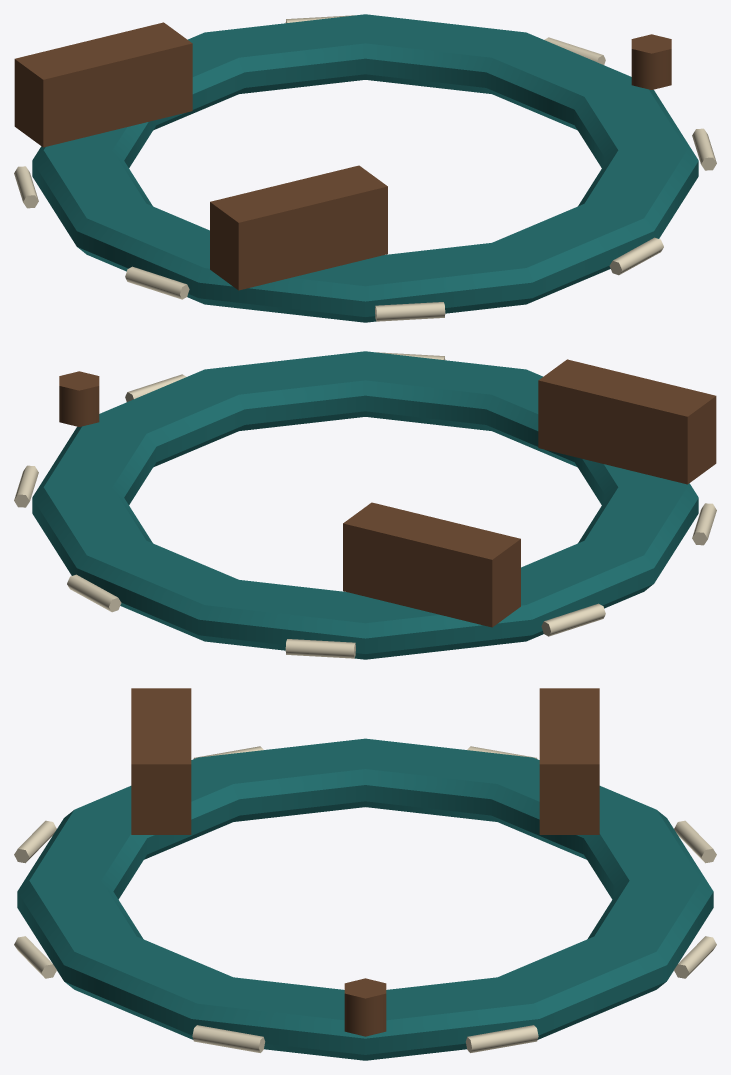
Rendered from k1_mount.obj.
The picture shows the model from 3 angles, top to bottom: view 1: azimuth 30°, elevation 25°; view 2: azimuth 150°, elevation 25°; view 3: azimuth 270°, elevation 25°; orthographic projection. The views are drawn at different scales.
Parts seen in each view (by area): view 1: k1_mount; view 2: k1_mount; view 3: k1_mount.
Part boxes in pixels (x1,y1,x2,y2): k1_mount: (14, 14, 716, 322); k1_mount: (14, 351, 716, 659); k1_mount: (14, 688, 716, 1060).
Size of the model in its own units: 1.2 by 0.2 by 1.17.
